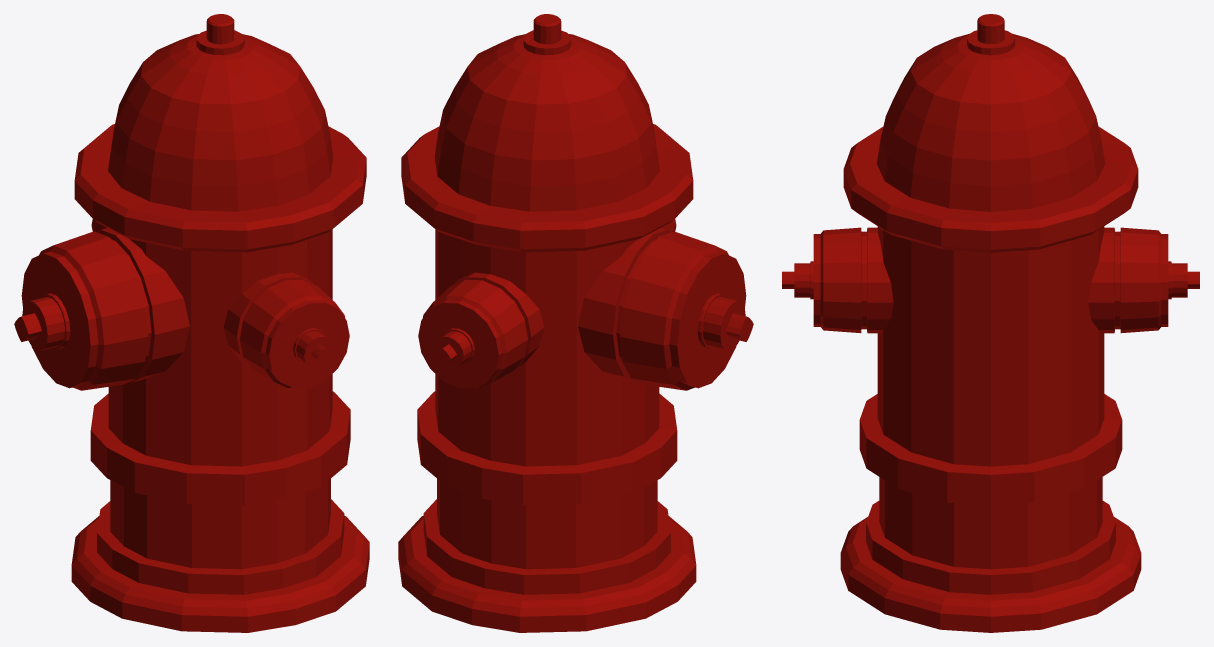
The model's file is City_Firehydrant.fbx.
3 renders of one model, left to right at view 1: azimuth 30°, elevation 25°; view 2: azimuth 150°, elevation 25°; view 3: azimuth 270°, elevation 25°, orthographic.
Visible parts, largest first — view 1: Fire_Hydrant; view 2: Fire_Hydrant; view 3: Fire_Hydrant.
Part boxes in pixels (bbox=[...]): Fire_Hydrant: bbox=[14, 14, 369, 632]; Fire_Hydrant: bbox=[398, 14, 753, 632]; Fire_Hydrant: bbox=[782, 14, 1199, 632].
Bounding box in the file's own units: 0.425 × 0.6788 × 0.467.
